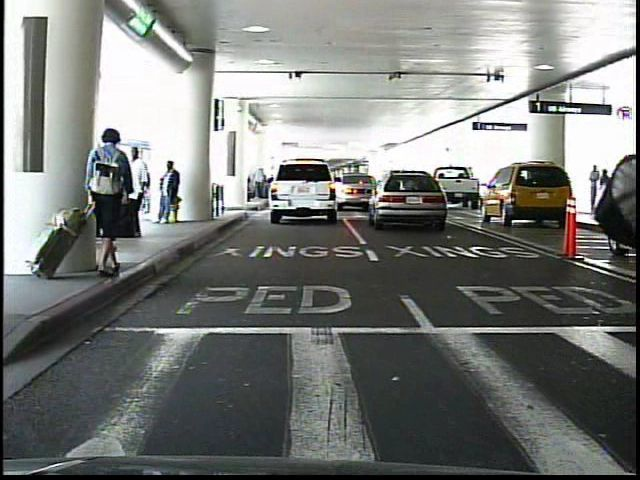person: (87, 125, 136, 280), (121, 145, 149, 239), (158, 160, 184, 228), (584, 165, 599, 213), (599, 166, 612, 210)
